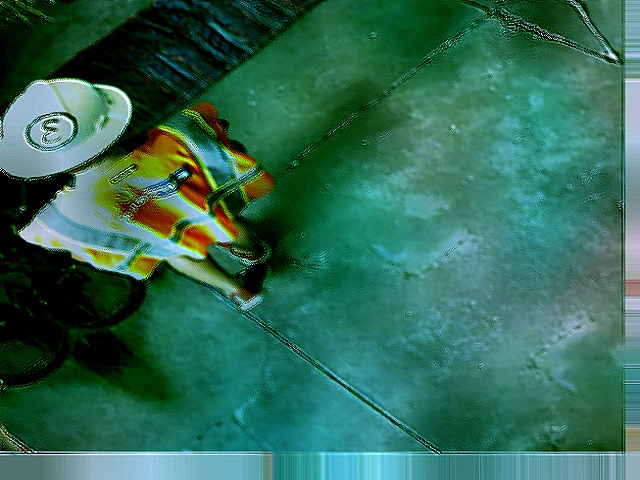three: (18, 106, 86, 155)
